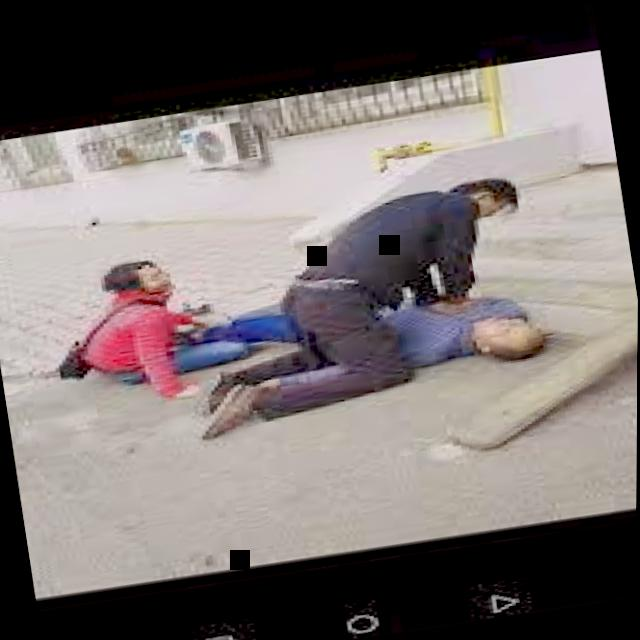Fall-Detected: (159, 264, 586, 427)
